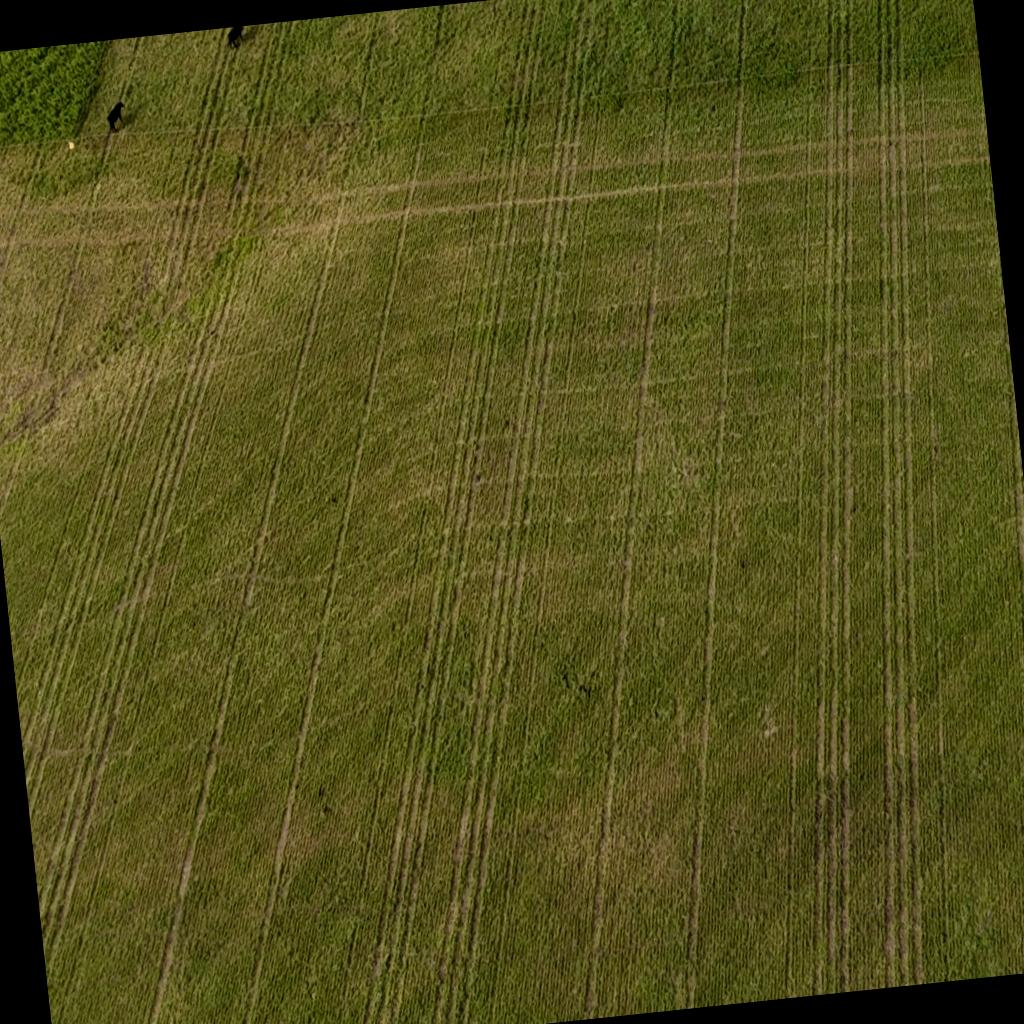cow: (104, 98, 128, 134), (218, 25, 250, 51)
